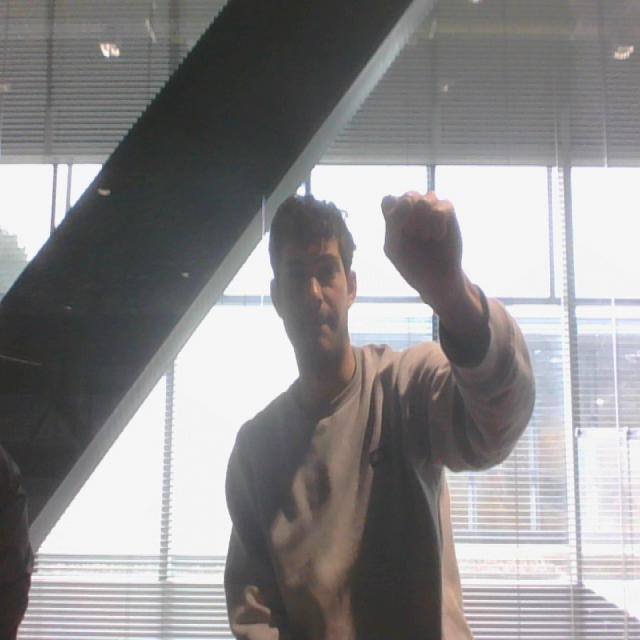stop: (376, 182, 466, 308)
